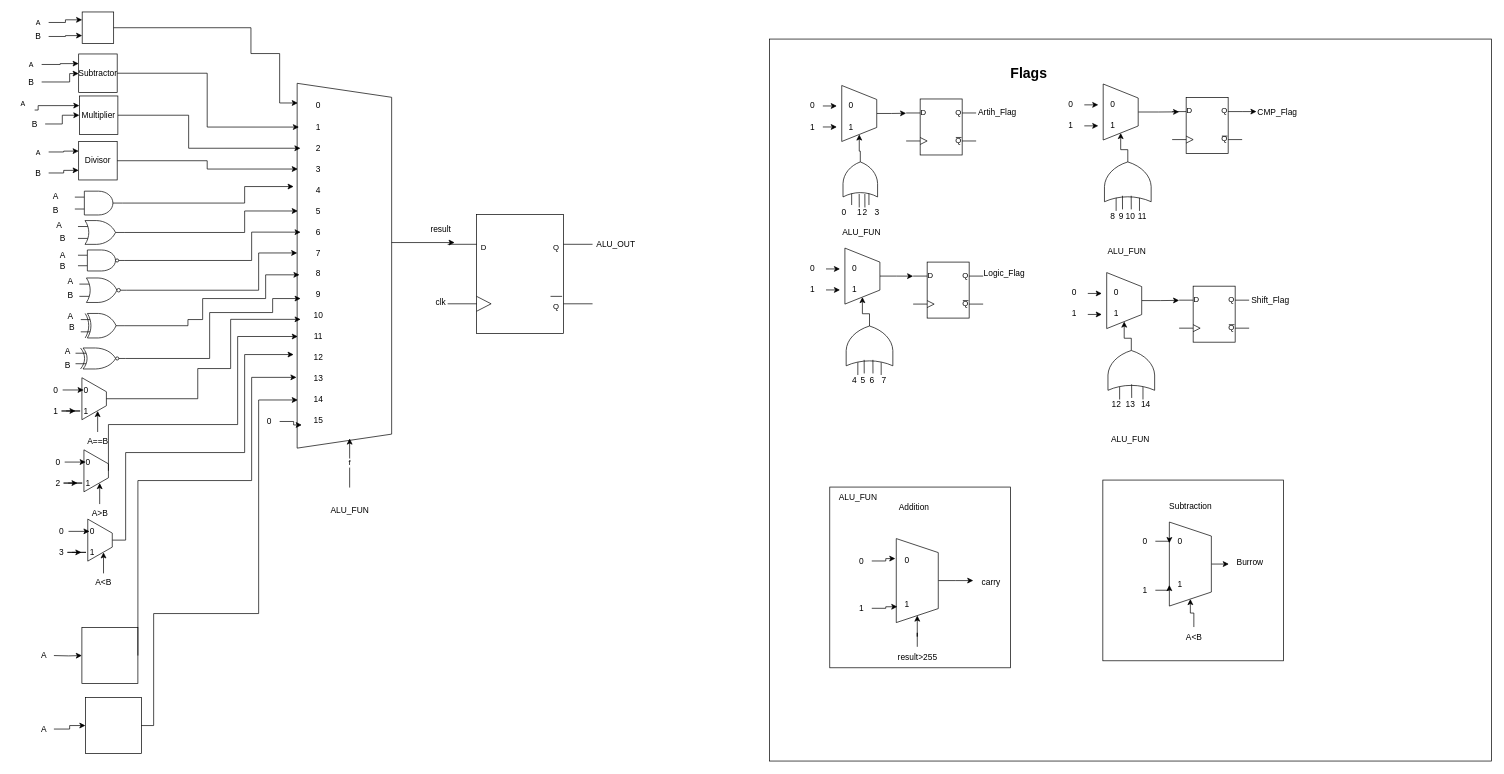
The diagram is 1504 pixels wide and 774 high, and some of its shapes have lost their labels. The shapes that lost their labels are listed below. From the top down, each one's centre as x and y in pixels, then its label:
pixel 97 27: Adder
pixel 109 655: Shift to right
pixel 113 725: Shift to left
